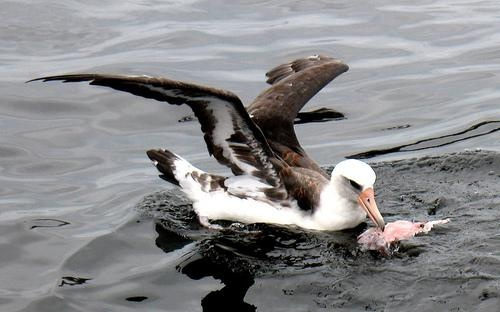bird: (20, 53, 390, 239)
